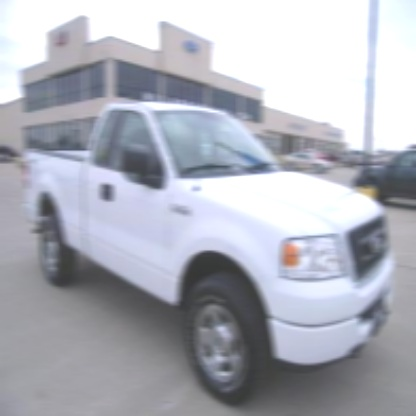Vehicle: (24, 103, 392, 399)
